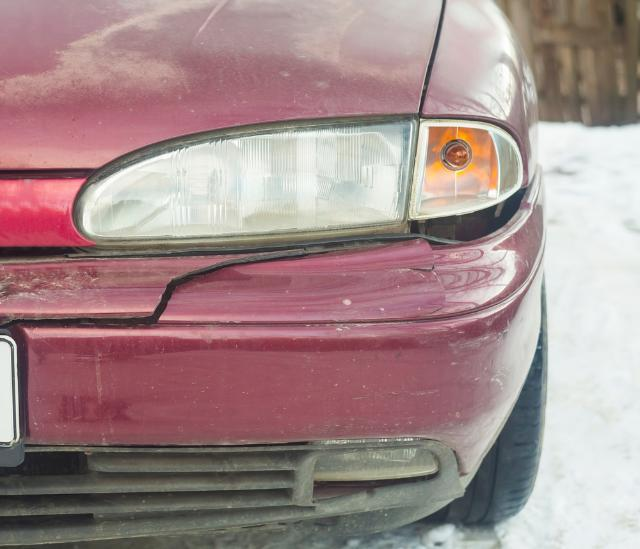crack: (0, 248, 349, 329), (402, 242, 449, 314)
dislocated part: (4, 168, 551, 548)
